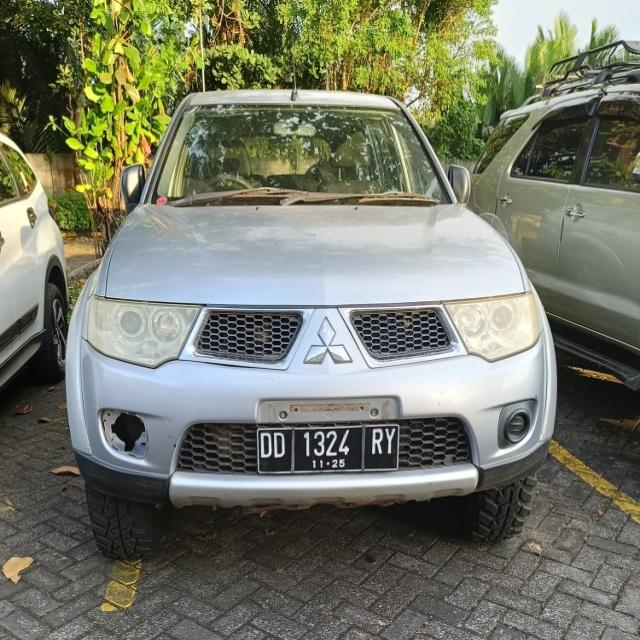plates: (255, 416, 398, 474)
